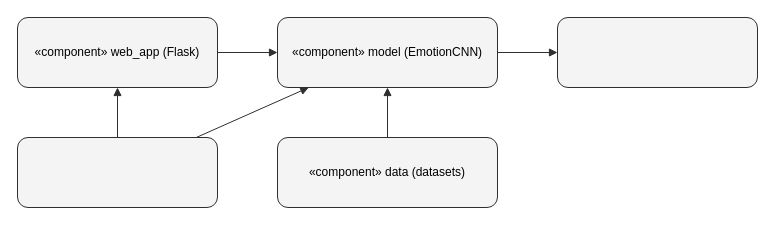
Image size: 775x225. Some labels were removed from this diagram. The centre of each missing label's shape, as x and y in pixels:
"«component» run.py (CLI)" belongs at [117,172].
"«component» utils (visualization)" belongs at [657,52].
